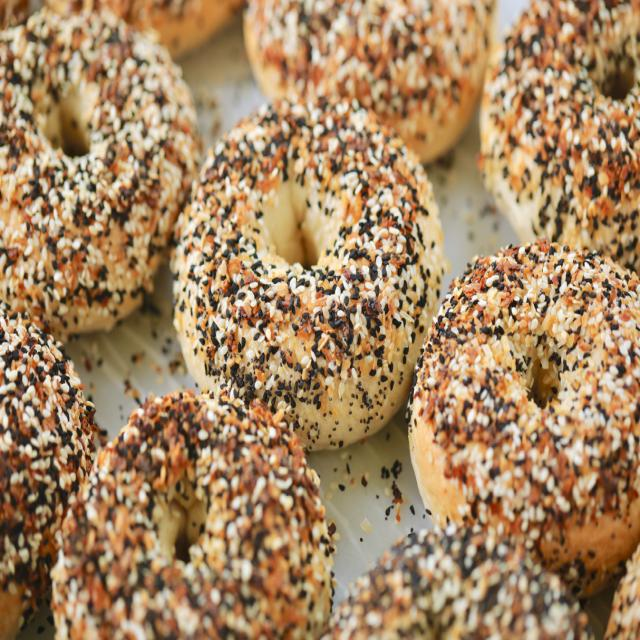Bagel: (172, 98, 445, 449), (409, 238, 640, 596), (51, 390, 334, 638), (0, 9, 201, 339), (479, 1, 640, 275), (244, 0, 496, 162)
